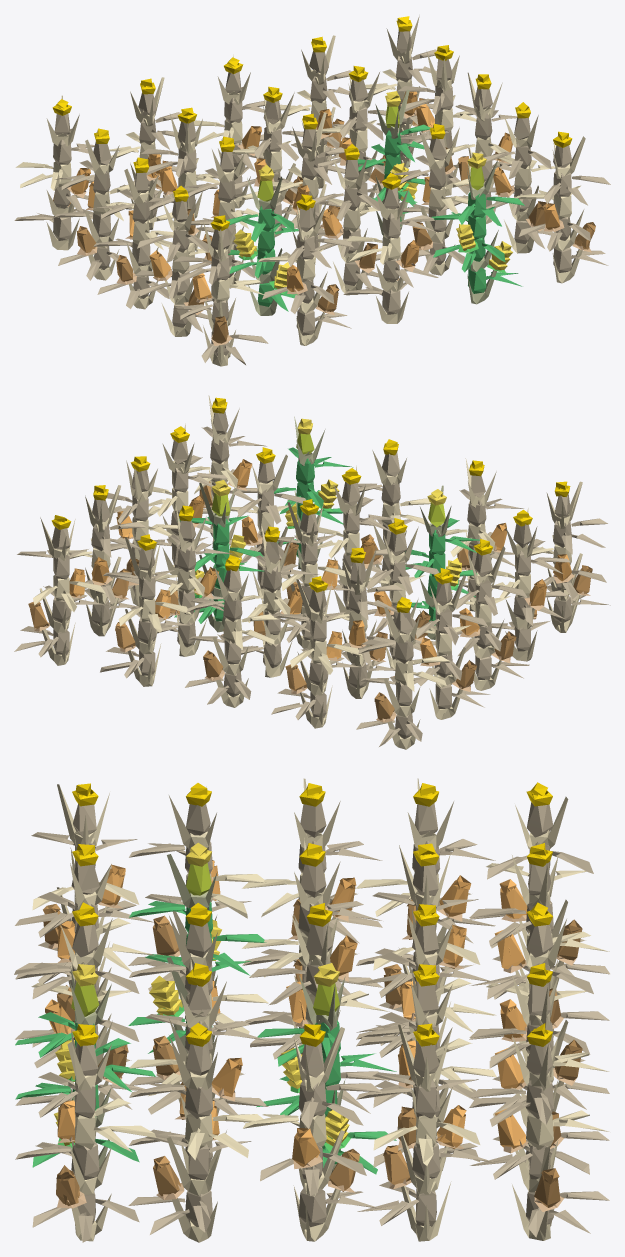
Rendered from cornfield_lod2.fbx.
The picture shows the model from 3 angles, top to bottom: view 1: azimuth 30°, elevation 25°; view 2: azimuth 150°, elevation 25°; view 3: azimuth 270°, elevation 25°; orthographic projection. The views are drawn at different scales.
Parts seen in each view (by area): view 1: Corn_Field_LOD2; view 2: Corn_Field_LOD2; view 3: Corn_Field_LOD2.
Part boxes in pixels (x1,y1,x2,y2): Corn_Field_LOD2: (14, 15, 610, 366); Corn_Field_LOD2: (14, 395, 610, 749); Corn_Field_LOD2: (14, 778, 609, 1242).
Size of the model in its own units: 500 by 165 by 420.
